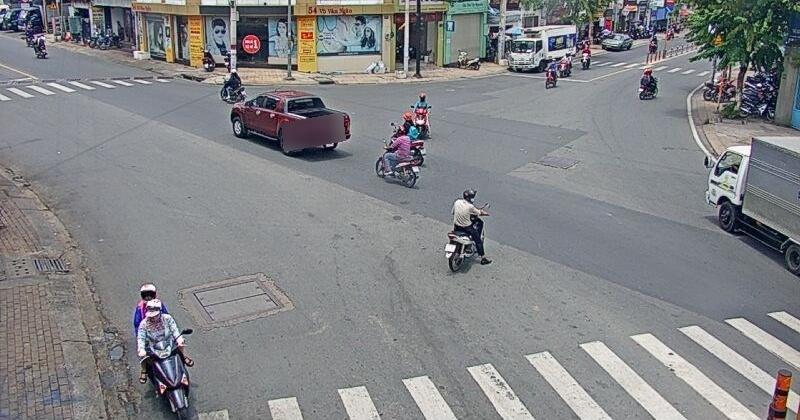xe hoi: (227, 90, 349, 157)
xe may: (136, 284, 193, 414), (447, 185, 486, 269), (377, 132, 426, 188), (639, 62, 659, 101)
xe tai: (696, 131, 800, 268)
